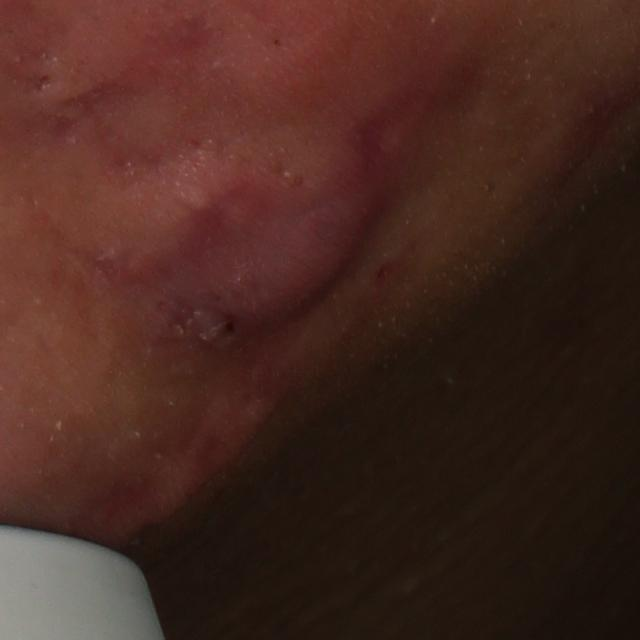nodule: (85, 129, 420, 371)
